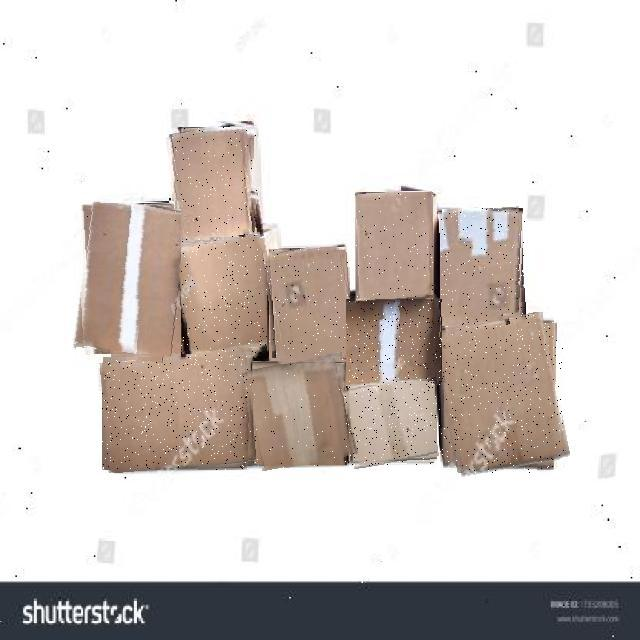BoxFace: (439, 315, 564, 473), (102, 353, 253, 470), (76, 203, 181, 359), (171, 239, 267, 361), (248, 358, 349, 468), (169, 128, 260, 248), (440, 208, 525, 327), (265, 247, 350, 362), (356, 192, 433, 302), (346, 299, 443, 386), (345, 380, 437, 466)
